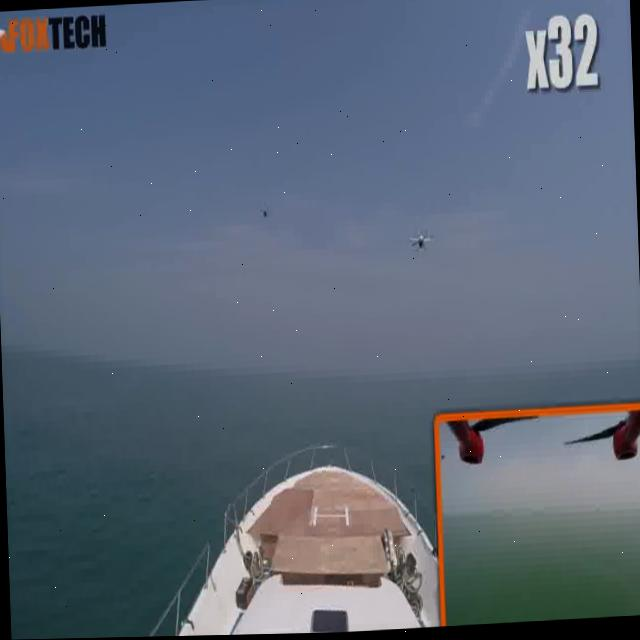drone: (402, 216, 438, 263), (252, 191, 284, 229)
